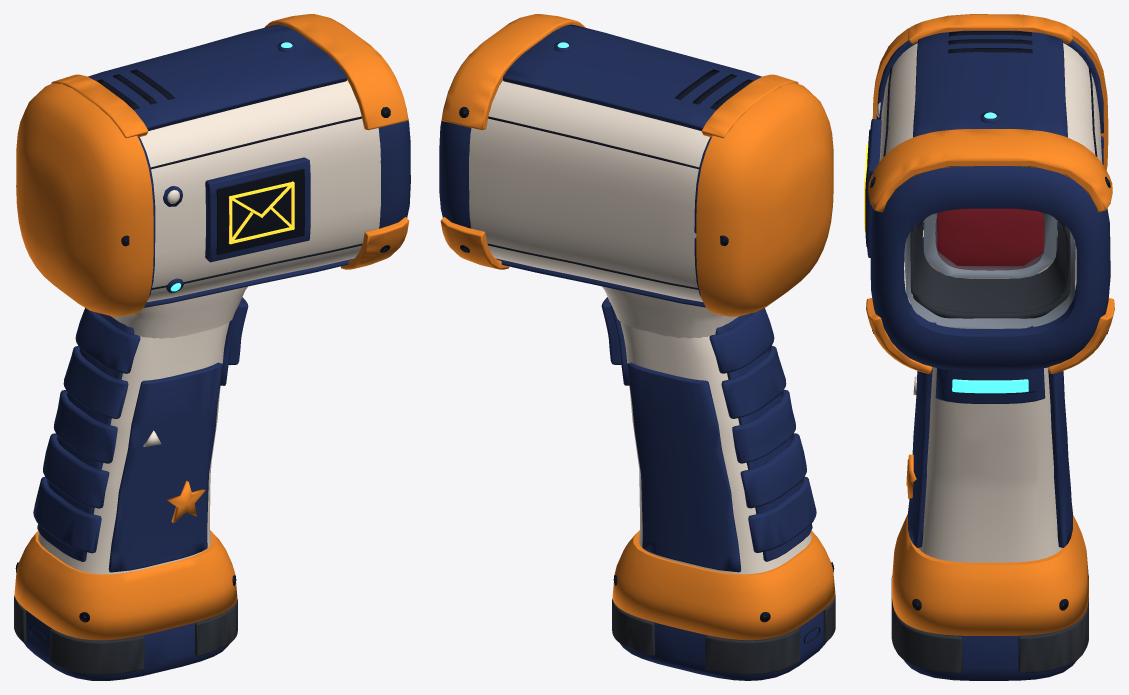
File: cosmic-scanner.glb
3 views of the same model, side by side, from view 1: azimuth 30°, elevation 25°; view 2: azimuth 150°, elevation 25°; view 3: azimuth 270°, elevation 25° (orthographic). The views are drawn at different scales.
Visible parts, largest first — view 1: SCN_SpaceOrange_Plastic, SCN_DeepNavy_Structural, SCN_WarmIvory_Plastic, SCN_GripRubber_Navy, SCN_DarkRubber, SCN_Display_Black, SCN_Seam_Dark, SCN_OrangeEmission_READY, SCN_Control_ActivationButton; view 2: SCN_WarmIvory_Plastic, SCN_SpaceOrange_Plastic, SCN_DeepNavy_Structural, SCN_GripRubber_Navy, SCN_DarkRubber, SCN_Seam_Dark, SCN_Control_ActivationButton; view 3: SCN_DeepNavy_Structural, SCN_SpaceOrange_Plastic, SCN_WarmIvory_Plastic, SCN_DarkRubber, SCN_RedOpticalGlass, SCN_RedSensor_READY, SCN_SatinMetal, SCN_Seam_Dark, SCN_Control_ActivationButton, SCN_Control_ButtonCyanInsert.
Boxes of the visible parts, bbox=[...] form: SCN_SpaceOrange_Plastic: bbox=[14, 14, 409, 640]; SCN_DeepNavy_Structural: bbox=[23, 24, 410, 680]; SCN_WarmIvory_Plastic: bbox=[38, 80, 380, 574]; SCN_GripRubber_Navy: bbox=[33, 308, 140, 553]; SCN_DarkRubber: bbox=[14, 595, 237, 674]; SCN_Display_Black: bbox=[216, 168, 304, 254]; SCN_Seam_Dark: bbox=[15, 69, 390, 643]; SCN_OrangeEmission_READY: bbox=[228, 181, 294, 244]; SCN_Control_ActivationButton: bbox=[228, 297, 248, 365]; SCN_WarmIvory_Plastic: bbox=[469, 80, 811, 574]; SCN_SpaceOrange_Plastic: bbox=[440, 14, 835, 640]; SCN_DeepNavy_Structural: bbox=[439, 24, 826, 680]; SCN_GripRubber_Navy: bbox=[709, 308, 816, 552]; SCN_DarkRubber: bbox=[612, 595, 835, 674]; SCN_Seam_Dark: bbox=[459, 69, 834, 643]; SCN_Control_ActivationButton: bbox=[601, 297, 621, 364]; SCN_DeepNavy_Structural: bbox=[866, 30, 1110, 680]; SCN_SpaceOrange_Plastic: bbox=[866, 14, 1114, 635]; SCN_WarmIvory_Plastic: bbox=[876, 43, 1102, 562]; SCN_DarkRubber: bbox=[891, 216, 1088, 673]; SCN_RedOpticalGlass: bbox=[935, 208, 1045, 270]; SCN_RedSensor_READY: bbox=[937, 209, 1042, 265]; SCN_SatinMetal: bbox=[904, 181, 1107, 604]; SCN_Seam_Dark: bbox=[870, 31, 1110, 610]; SCN_Control_ActivationButton: bbox=[944, 369, 1036, 394]; SCN_Control_ButtonCyanInsert: bbox=[952, 379, 1028, 393].
Bounding box in the file's own units: 0.113 × 0.1824 × 0.0681.
